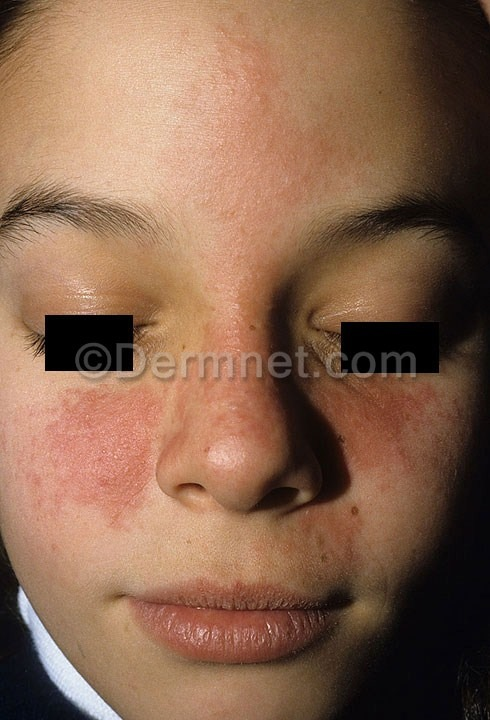Acne: (40, 368, 434, 508)
